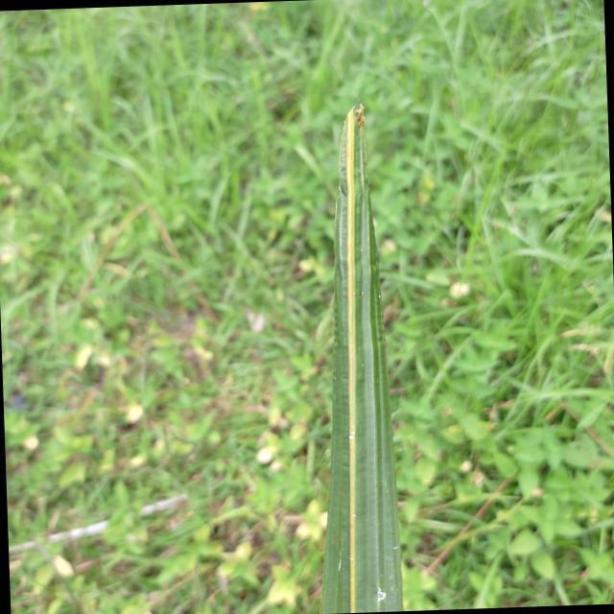Boron: (324, 100, 403, 614)
